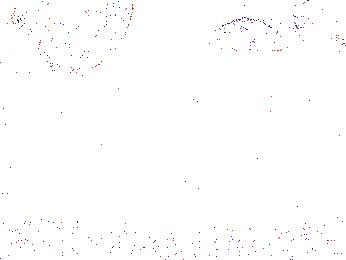moon jellyfish: (52, 1, 135, 75), (11, 1, 91, 45), (207, 18, 291, 54), (1, 29, 39, 99), (293, 1, 346, 44)
